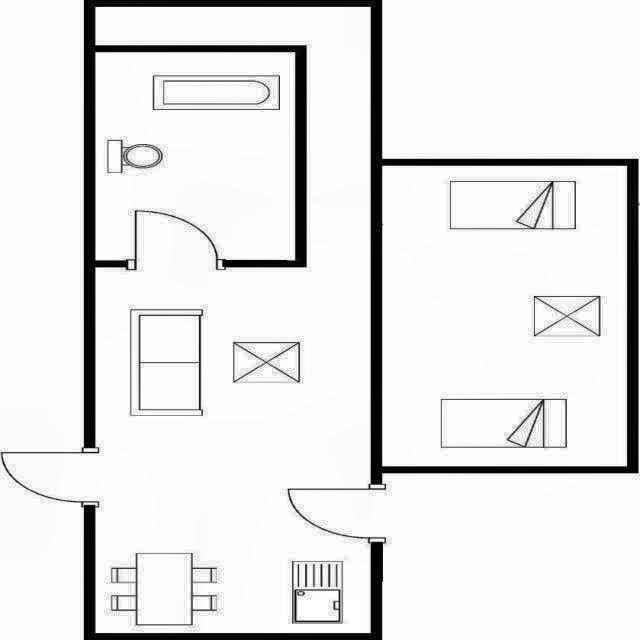room: (93, 6, 372, 634), (382, 165, 625, 466), (96, 53, 293, 260)
